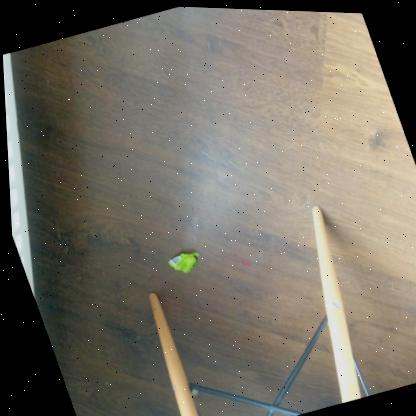Plastic: (164, 250, 196, 271)
